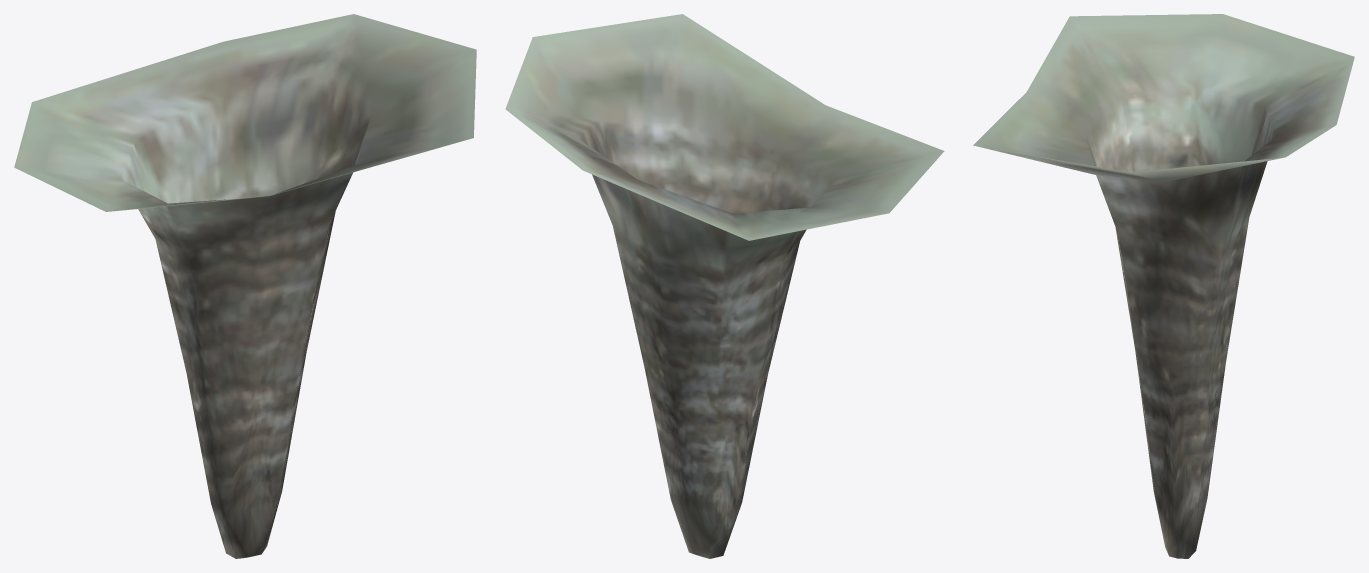
Rendered from TROLLHOLE02_PS-MAINSTALAG63.fbx.
3 renders of one model, left to right at view 1: azimuth 30°, elevation 25°; view 2: azimuth 150°, elevation 25°; view 3: azimuth 270°, elevation 25°, orthographic. The views are drawn at different scales.
Parts seen in each view (by area): view 1: TROLLHOLE02_PS-MAINSTALAG63; view 2: TROLLHOLE02_PS-MAINSTALAG63; view 3: TROLLHOLE02_PS-MAINSTALAG63.
Part boxes in pixels (<box>): TROLLHOLE02_PS-MAINSTALAG63: <box>14,14,476,558</box>; TROLLHOLE02_PS-MAINSTALAG63: <box>505,14,944,558</box>; TROLLHOLE02_PS-MAINSTALAG63: <box>973,14,1354,558</box>.
Bounding box in the file's own units: 18836 × 20519 × 14562.
Materials: 1 (1 with a texture image).
